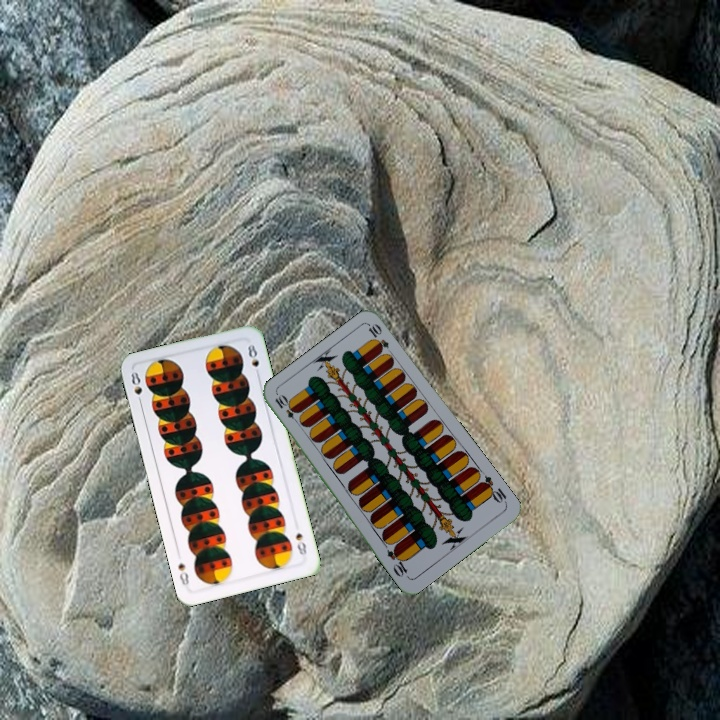E10: (476, 472, 510, 507), (271, 391, 303, 427)
S8: (125, 368, 145, 408), (292, 529, 310, 560)
